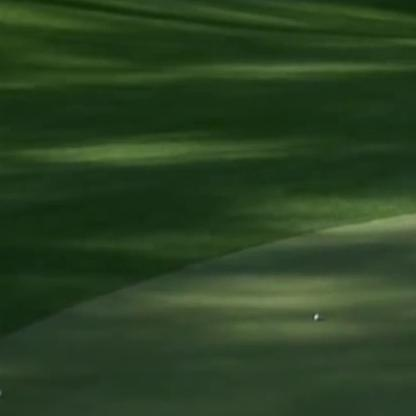golfball: (311, 310, 318, 320)
